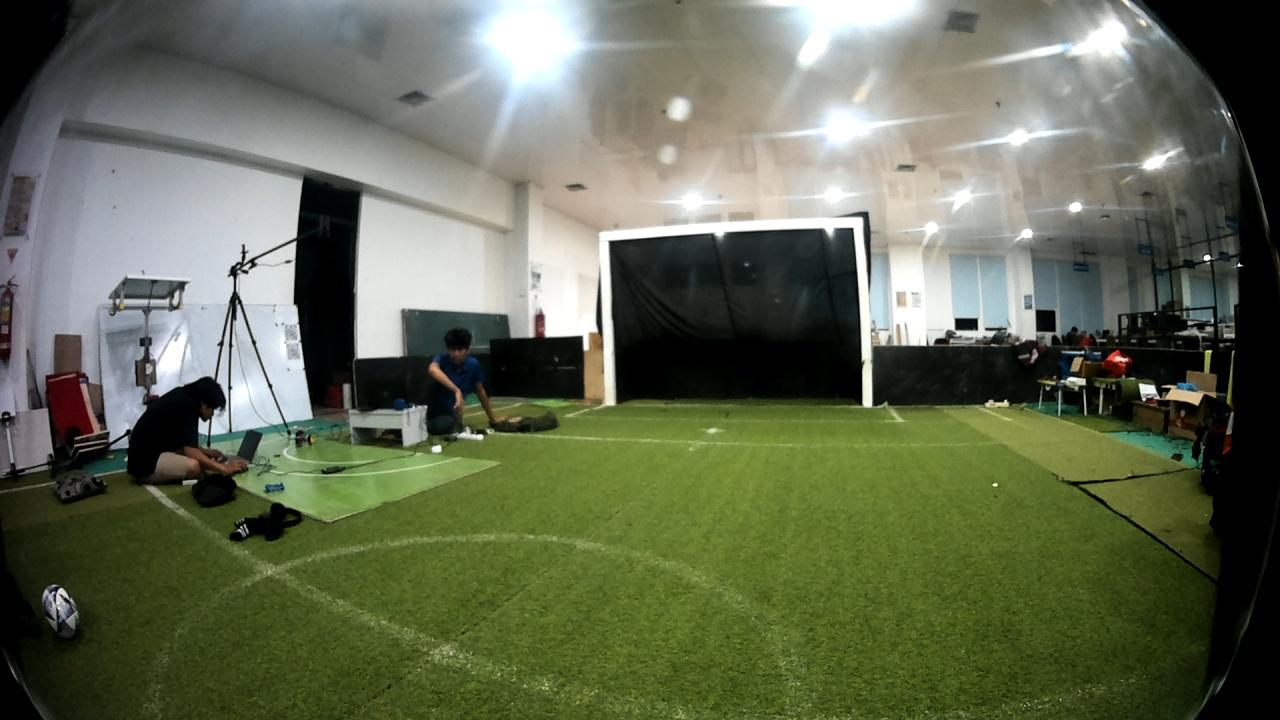ball: (38, 578, 85, 645)
